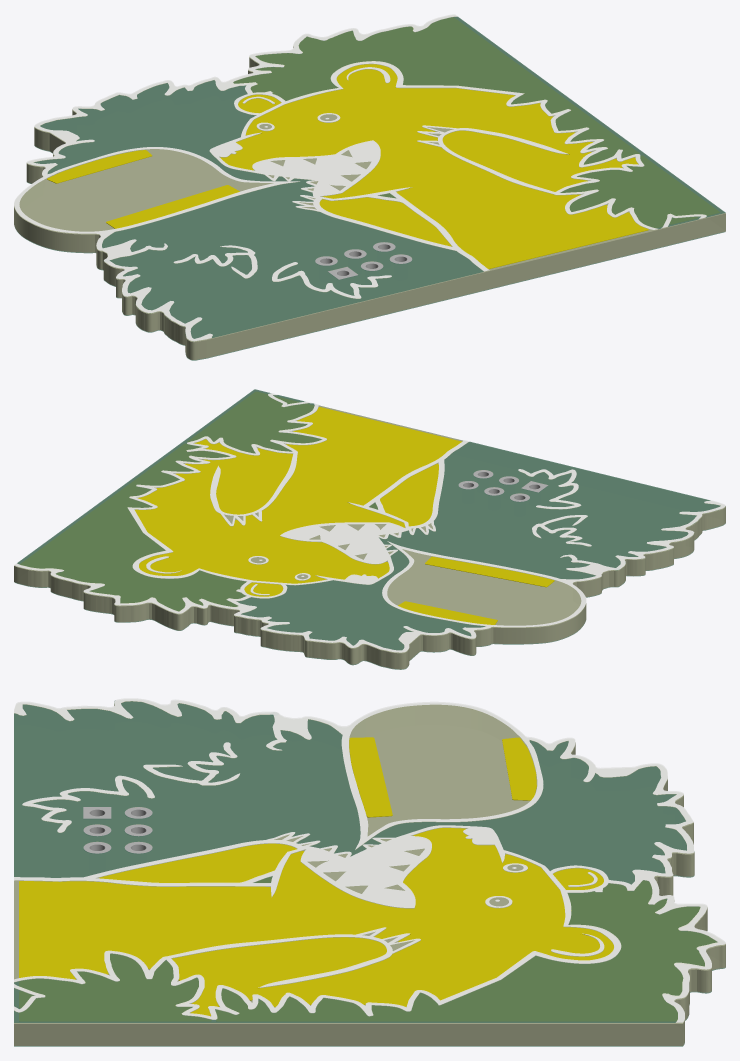
Rendered from offzone-2025-bear-add-on.glb.
The picture shows the model from 3 angles, top to bottom: view 1: azimuth 30°, elevation 25°; view 2: azimuth 150°, elevation 25°; view 3: azimuth 270°, elevation 25°; orthographic projection. The views are drawn at different scales.
Parts seen in each view (by area): view 1: =>[0:1:1:8], =>[0:1:1:2], =>[0:1:1:6], =>[0:1:1:4]; view 2: =>[0:1:1:8], =>[0:1:1:2], =>[0:1:1:6], =>[0:1:1:4]; view 3: =>[0:1:1:8], =>[0:1:1:2], =>[0:1:1:6], =>[0:1:1:4].
Part boxes in pixels (box(x1,y1,x2,y2)): =>[0:1:1:8]: box(14, 16, 725, 359); =>[0:1:1:2]: box(47, 18, 719, 279); =>[0:1:1:6]: box(15, 16, 725, 360); =>[0:1:1:4]: box(14, 14, 706, 341); =>[0:1:1:8]: box(14, 390, 725, 669); =>[0:1:1:2]: box(20, 392, 554, 624); =>[0:1:1:6]: box(14, 389, 725, 669); =>[0:1:1:4]: box(14, 393, 725, 652); =>[0:1:1:8]: box(14, 701, 725, 1045); =>[0:1:1:2]: box(19, 737, 715, 1020); =>[0:1:1:6]: box(14, 700, 725, 1046); =>[0:1:1:4]: box(14, 698, 725, 1022).
Bounding box in the file's own units: 0.0473 × 0.00166 × 0.0439.
4 materials, 4 textured.
